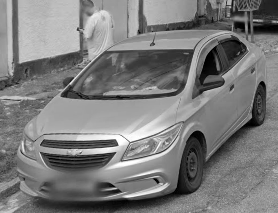car: (17, 31, 267, 204)
